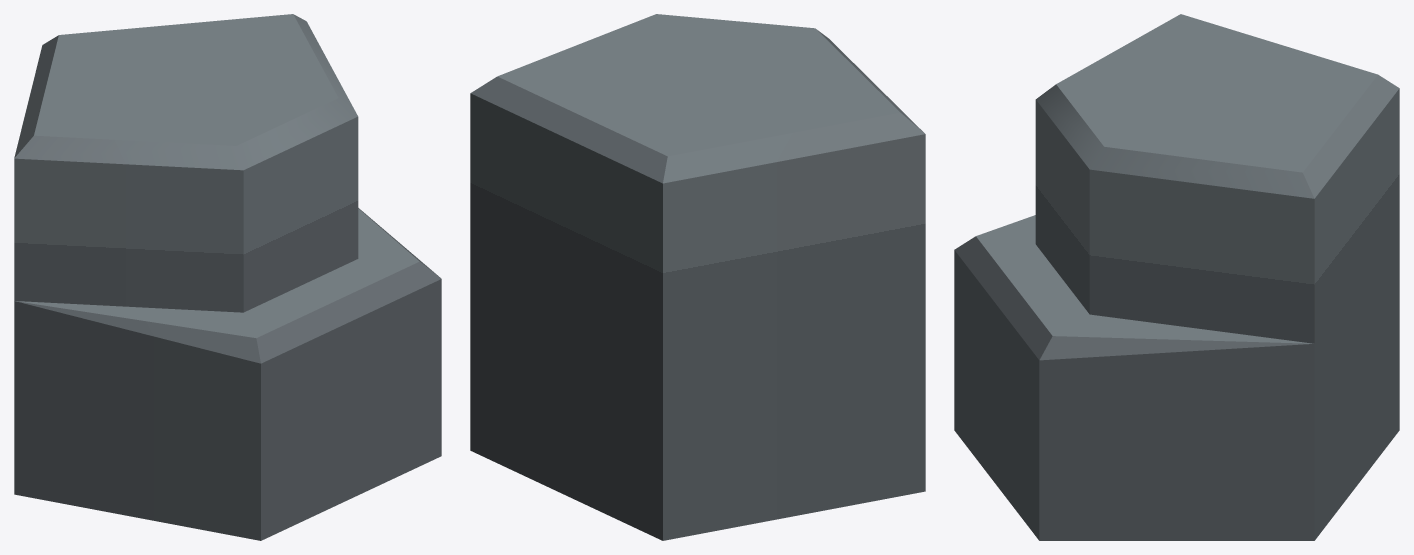
Rendered from Rock_1_A_Color1.glb.
3 views of the same model, side by side, from view 1: azimuth 30°, elevation 25°; view 2: azimuth 150°, elevation 25°; view 3: azimuth 270°, elevation 25° (orthographic). The views are drawn at different scales.
Visible parts, largest first — view 1: Rock_1_A_Color1; view 2: Rock_1_A_Color1; view 3: Rock_1_A_Color1.
Boxes of the visible parts, bbox=[...] form: Rock_1_A_Color1: bbox=[14, 14, 441, 540]; Rock_1_A_Color1: bbox=[470, 14, 925, 540]; Rock_1_A_Color1: bbox=[954, 14, 1399, 540].
Bounding box in the file's own units: 0.578 × 0.5403 × 0.6078.
1 material, 1 textured.
